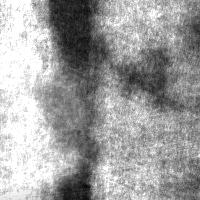patches: (0, 42, 90, 196), (0, 109, 87, 200), (0, 107, 78, 200), (42, 1, 108, 78), (116, 47, 183, 108), (50, 116, 97, 200)
